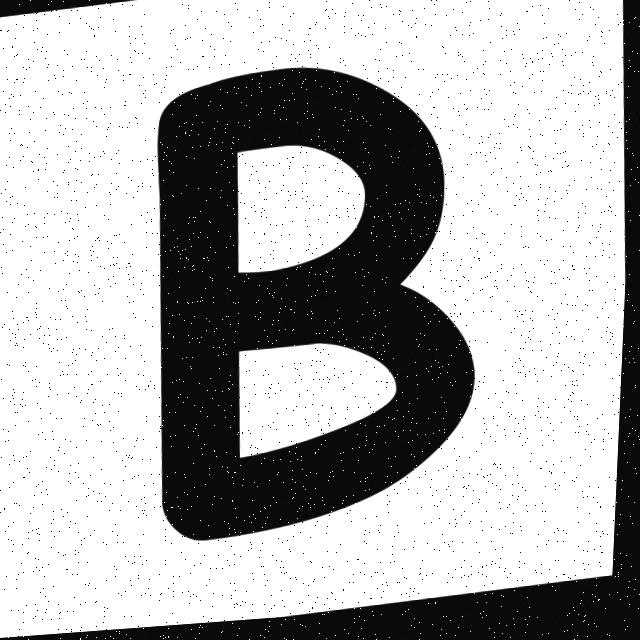B: (159, 73, 478, 544)
